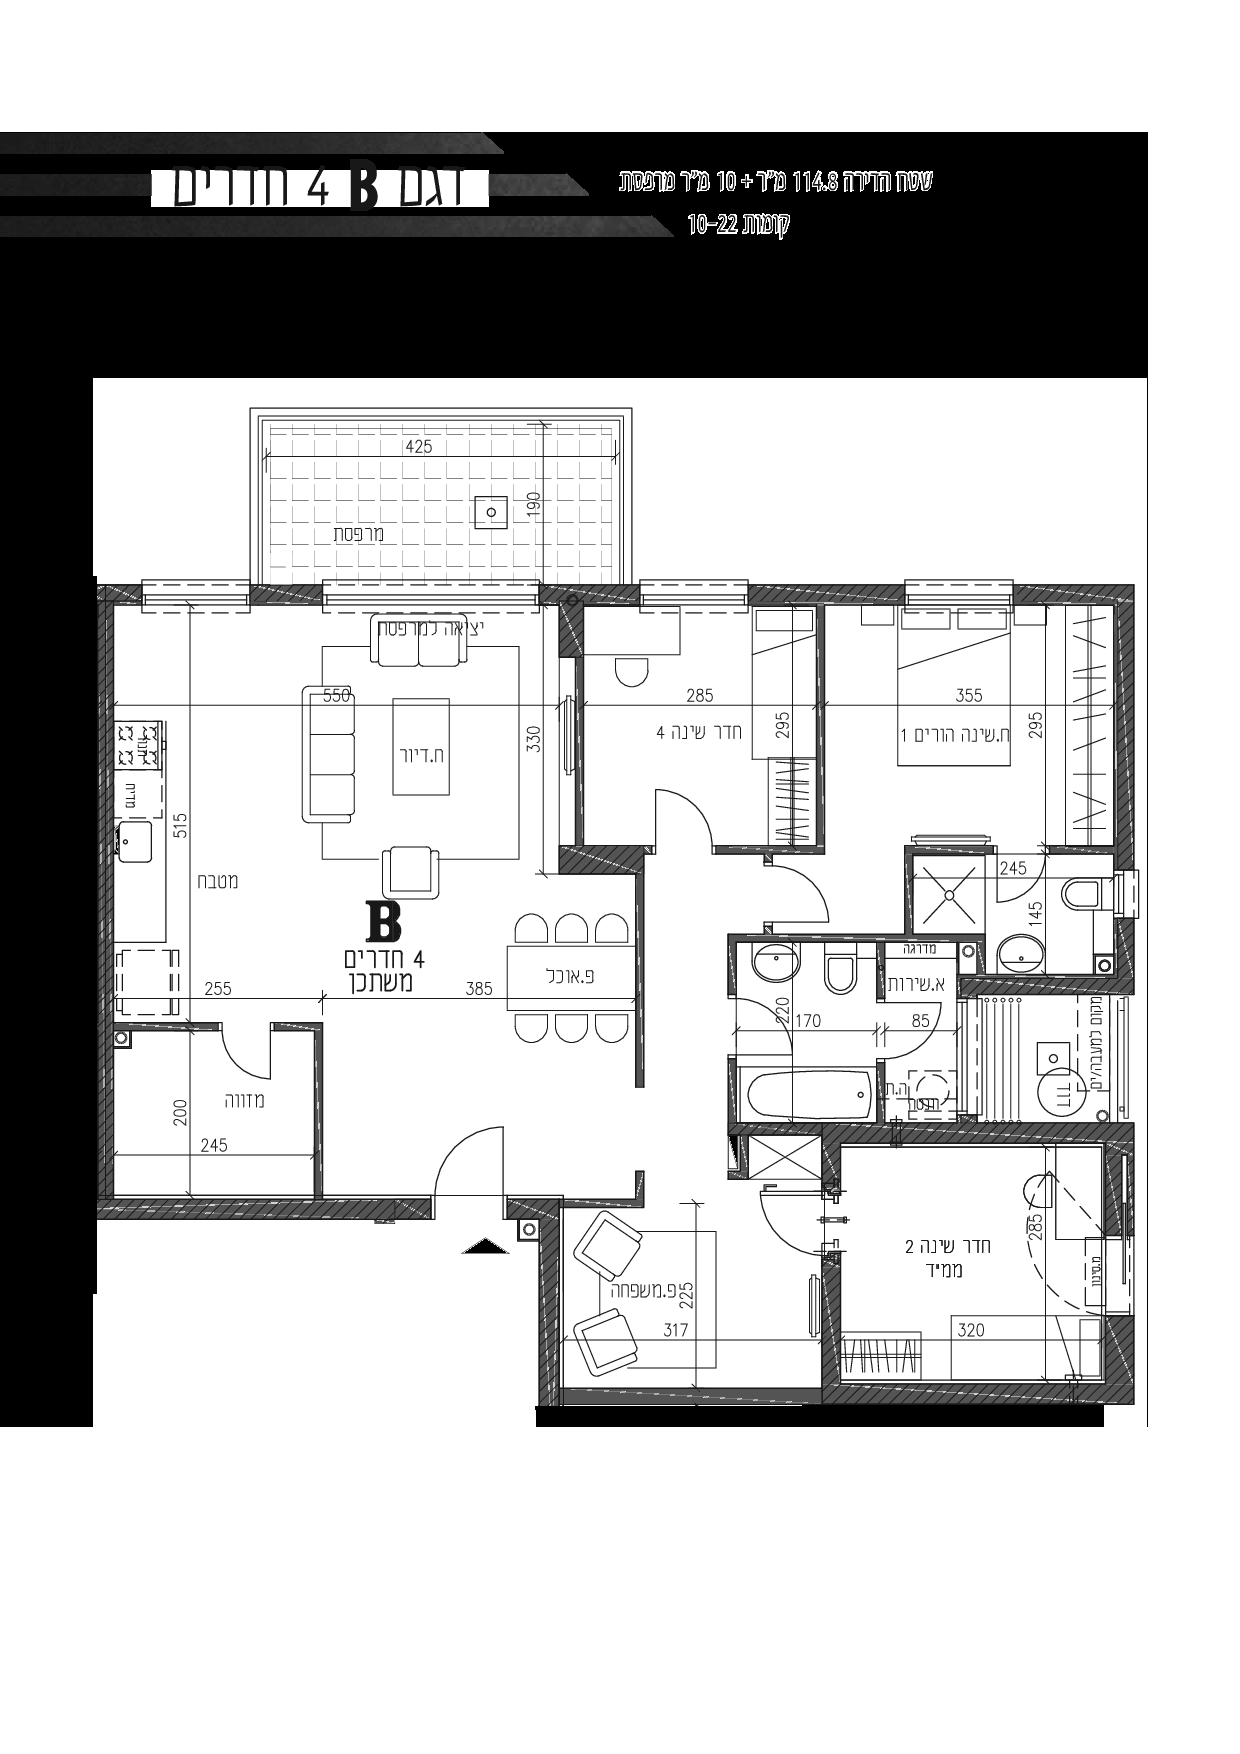door: (421, 1103, 527, 1186), (644, 778, 723, 840), (747, 1186, 812, 1255), (777, 860, 841, 929), (741, 990, 798, 1059), (891, 997, 946, 1063), (209, 1037, 278, 1086), (992, 863, 1041, 905)
wall: (64, 263, 1084, 360), (7, 439, 89, 1406), (539, 1406, 1096, 1425), (909, 1122, 1131, 1143), (831, 1385, 1133, 1398)
window: (321, 574, 541, 617), (637, 570, 752, 621), (902, 570, 1013, 619), (140, 573, 251, 619)
